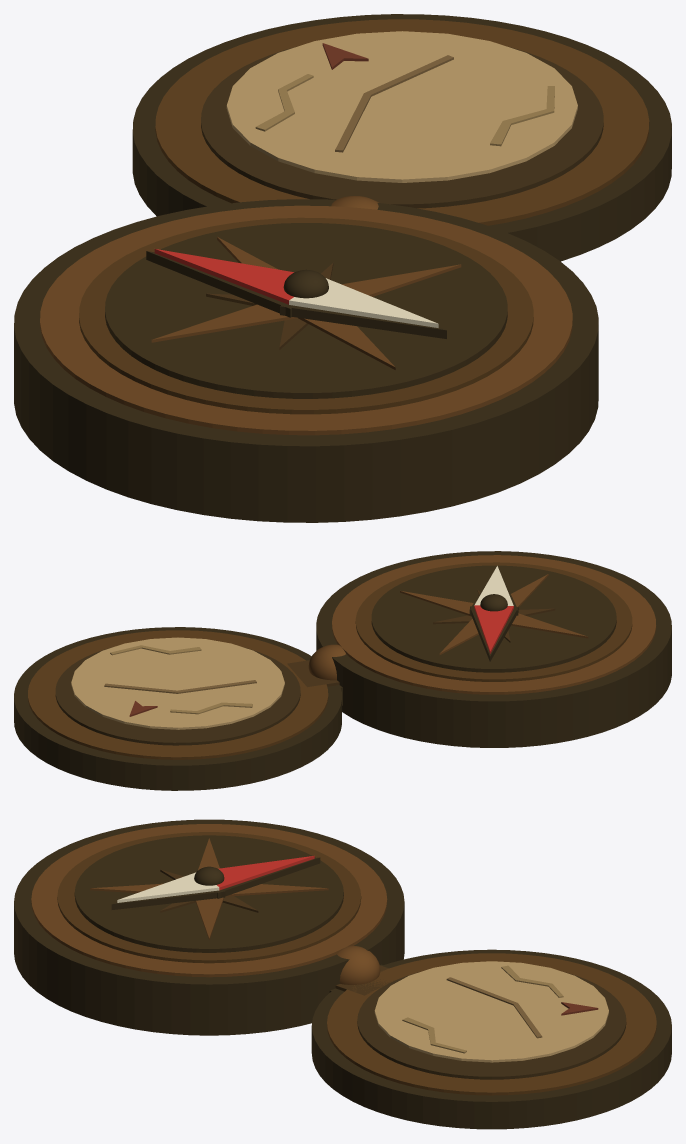
The model's file is book_bussola.fbx.
3 renders of one model, top to bottom at view 1: azimuth 30°, elevation 25°; view 2: azimuth 150°, elevation 25°; view 3: azimuth 270°, elevation 25°, orthographic. The views are drawn at different scales.
Visible parts, largest first — view 1: book_bussola_livro, book_bussola_anim_agulha; view 2: book_bussola_livro, book_bussola_anim_agulha; view 3: book_bussola_livro, book_bussola_anim_agulha.
Part boxes in pixels (<box>): book_bussola_livro: <box>14,14,671,522</box>; book_bussola_anim_agulha: <box>146,249,446,338</box>; book_bussola_livro: <box>14,551,671,790</box>; book_bussola_anim_agulha: <box>469,566,518,661</box>; book_bussola_livro: <box>14,819,671,1129</box>; book_bussola_anim_agulha: <box>111,855,320,909</box>.
Bounding box in the file's own units: 2.82 × 0.43 × 3.03.
Materials: 1 (1 with a texture image).
